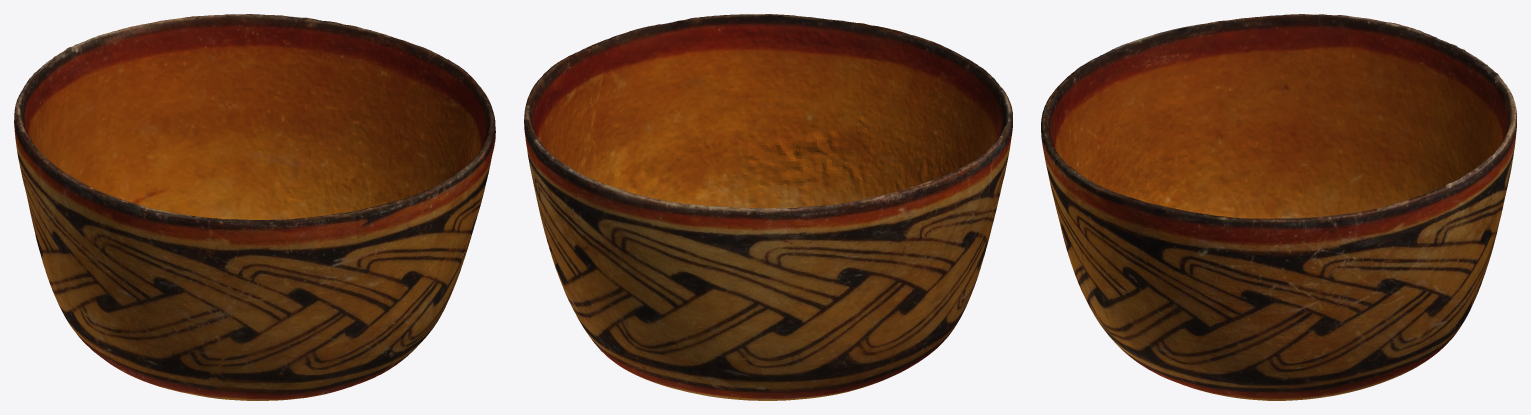
3 renders of one model, left to right at view 1: azimuth 30°, elevation 25°; view 2: azimuth 150°, elevation 25°; view 3: azimuth 270°, elevation 25°, orthographic. The views are drawn at different scales.
Parts seen in each view (by area): view 1: Mesh_0.006; view 2: Mesh_0.006; view 3: Mesh_0.006.
Boxes of the visible parts, left/top/right/bottom form: Mesh_0.006: left=14, top=14, right=495, bottom=400; Mesh_0.006: left=524, top=14, right=1012, bottom=400; Mesh_0.006: left=1041, top=14, right=1516, bottom=400.
Bounding box in the file's own units: 0.1425 × 0.0791 × 0.1426.
1 material, 1 textured.
